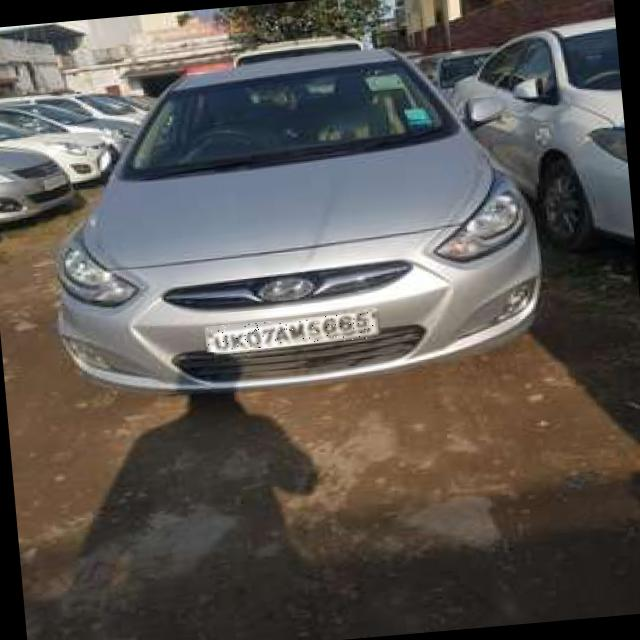Plate: (205, 313, 375, 354)
